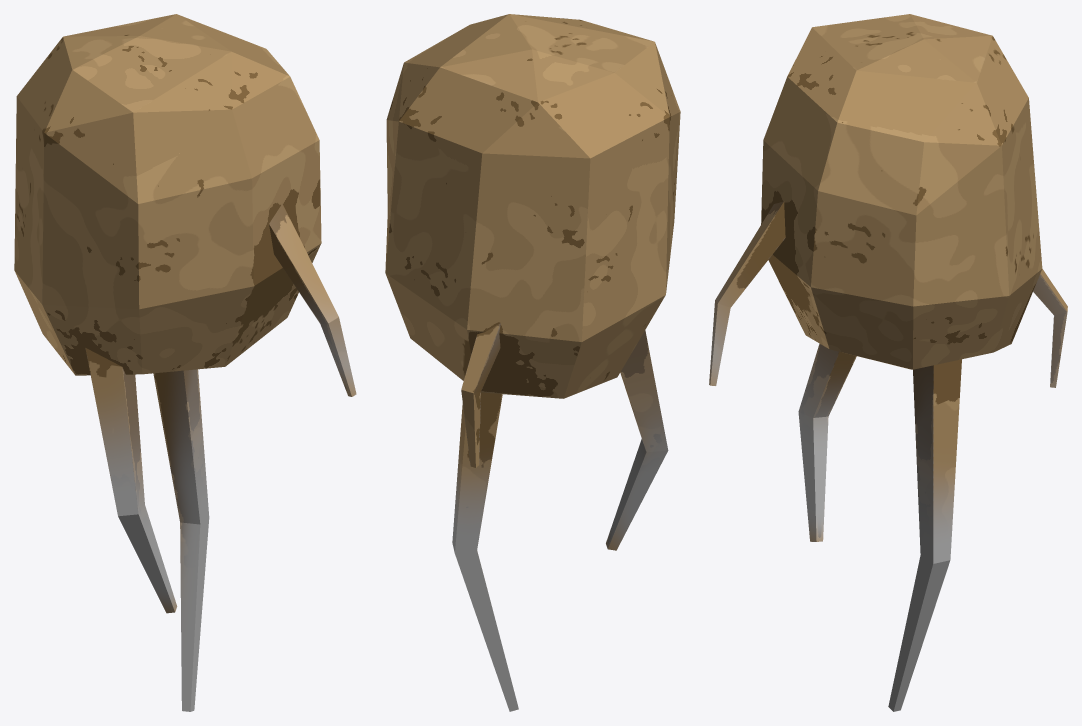
Rendered from patate_1.glb.
3 renders of one model, left to right at view 1: azimuth 30°, elevation 25°; view 2: azimuth 150°, elevation 25°; view 3: azimuth 270°, elevation 25°, orthographic. The views are drawn at different scales.
Parts seen in each view (by area): view 1: corps.002, jambes; view 2: corps.002, jambes; view 3: corps.002, jambes.
Part boxes in pixels (x1=…): corps.002: x1=14, y1=14, x2=321, y2=375; jambes: x1=85, y1=203, x2=356, y2=711; corps.002: x1=385, y1=14, x2=680, y2=398; jambes: x1=452, y1=323, x2=668, y2=711; corps.002: x1=761, y1=14, x2=1042, y2=369; jambes: x1=709, y1=201, x2=1067, y2=711.
Size of the model in its own units: 0.4302 by 1.05 by 0.5199.
1 material, 1 textured.
